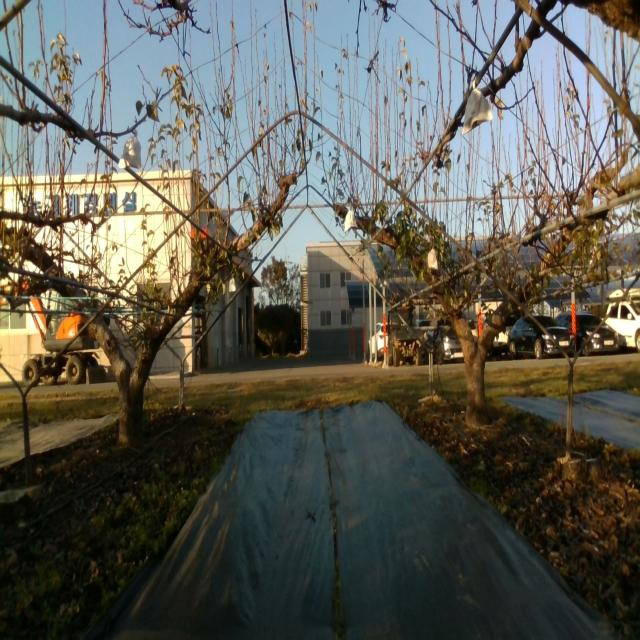pearbags: (461, 81, 496, 135), (118, 127, 141, 174), (427, 245, 439, 271), (344, 210, 358, 232)
